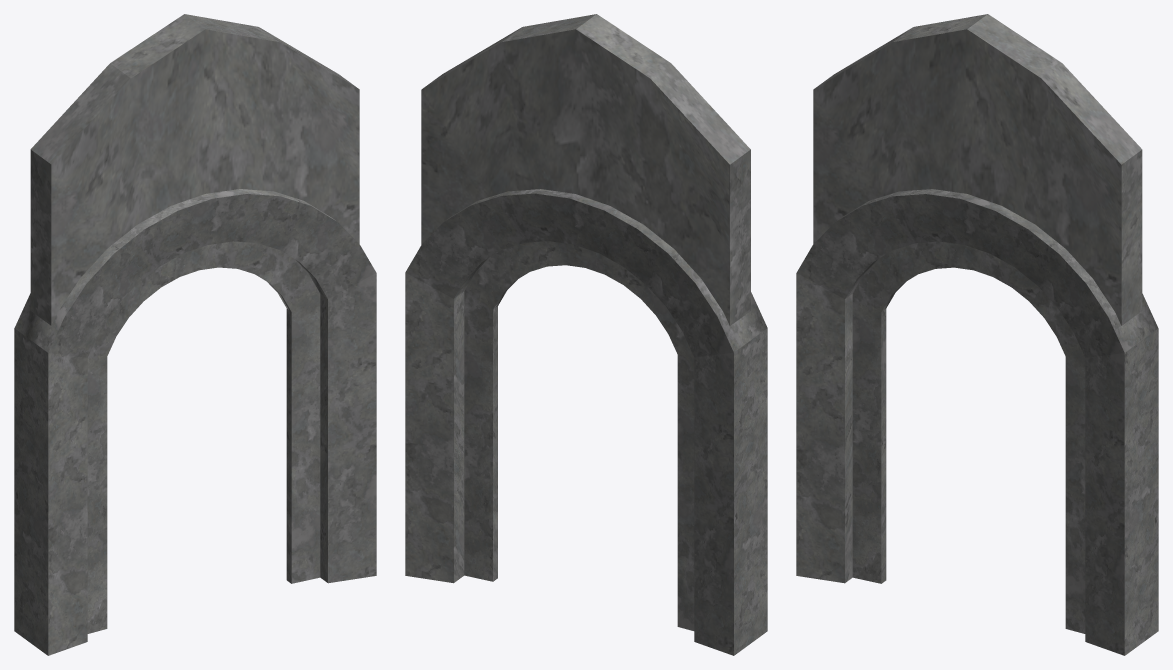
Rendered from door_frame.glb.
3 renders of one model, left to right at view 1: azimuth 30°, elevation 25°; view 2: azimuth 150°, elevation 25°; view 3: azimuth 330°, elevation 25°, orthographic.
Visible parts, largest first — view 1: Cube.001; view 2: Cube.001; view 3: Cube.001.
Boxes of the visible parts, x1,y1,x2,y2 form: Cube.001: (14,14,376,655); Cube.001: (405,14,767,655); Cube.001: (796,14,1158,655).
Size of the model in its own units: 2.13 by 3.61 by 0.379.
1 material, 1 textured.
